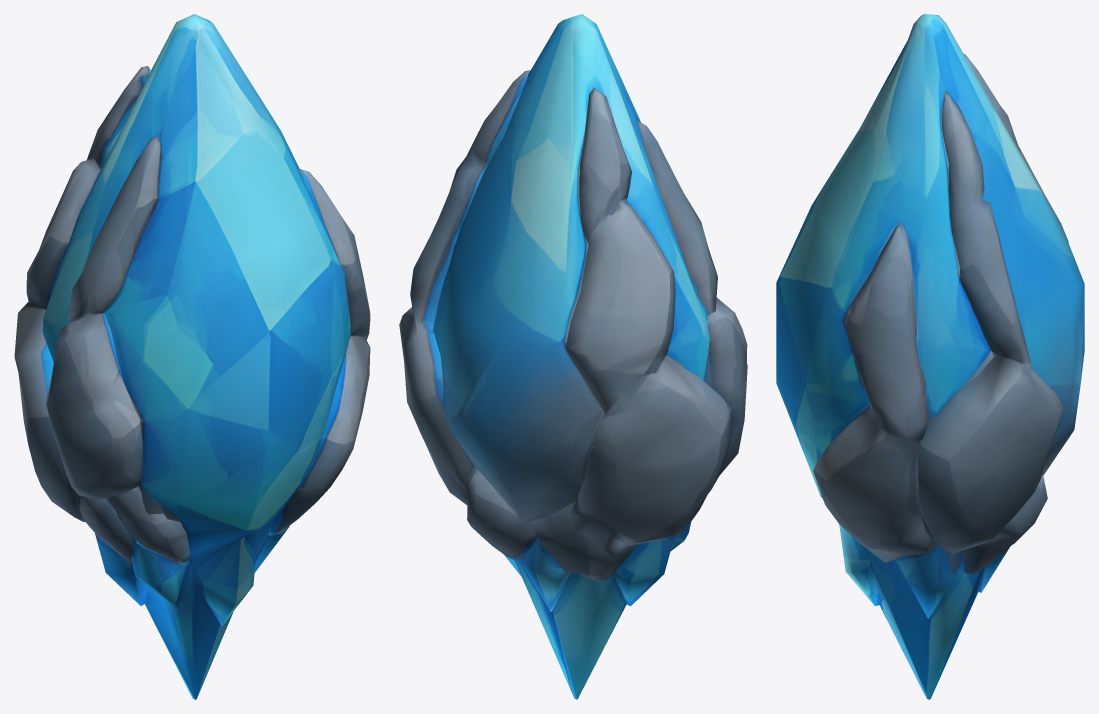
File: Cristal_azul_flotante.glb
3 views of the same model, side by side, from view 1: azimuth 30°, elevation 25°; view 2: azimuth 150°, elevation 25°; view 3: azimuth 270°, elevation 25° (orthographic).
Parts seen in each view (by area): view 1: tripo_node_1c6395c4-ed97-408d-8756-a055ca98a9e7; view 2: tripo_node_1c6395c4-ed97-408d-8756-a055ca98a9e7; view 3: tripo_node_1c6395c4-ed97-408d-8756-a055ca98a9e7.
Boxes of the visible parts, left/top/right/bottom form: tripo_node_1c6395c4-ed97-408d-8756-a055ca98a9e7: left=14, top=14, right=370, bottom=699; tripo_node_1c6395c4-ed97-408d-8756-a055ca98a9e7: left=399, top=14, right=747, bottom=699; tripo_node_1c6395c4-ed97-408d-8756-a055ca98a9e7: left=776, top=14, right=1084, bottom=699.
Size of the model in its own units: 0.4785 by 0.998 by 0.4082.
1 material, 1 textured.
